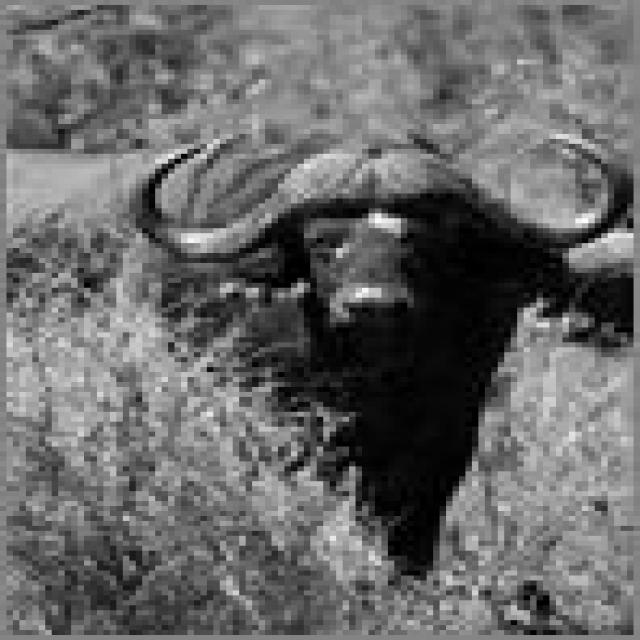Buffalo: (130, 124, 634, 580)
